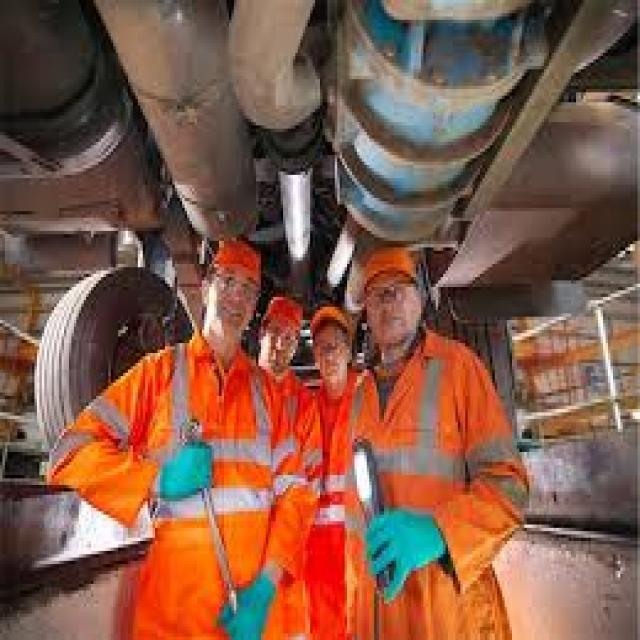Reflective-Jacket: (347, 333, 532, 584), (135, 337, 283, 597), (37, 337, 180, 531)
